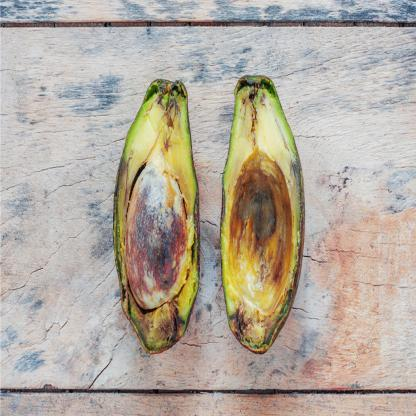avocado: (113, 78, 200, 353), (220, 75, 305, 354)
